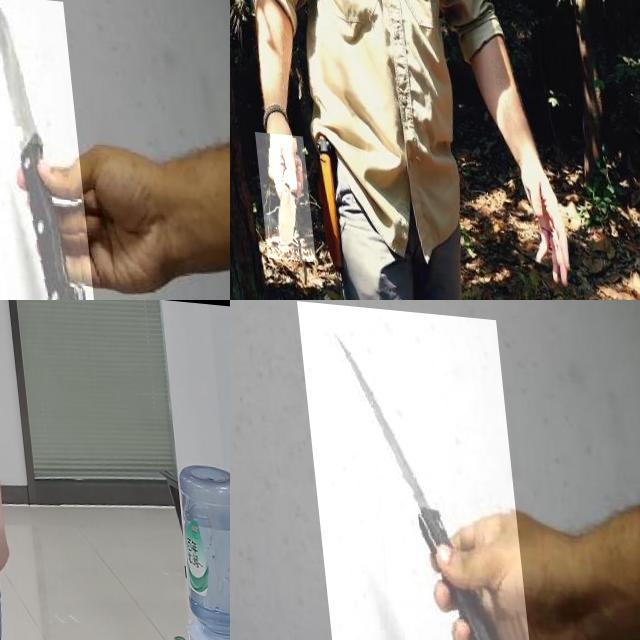-: (293, 300, 524, 640), (0, 0, 87, 300), (245, 128, 304, 257)
gun-knife-thesis - v11 Yolov5 augmented: (0, 438, 27, 542)
